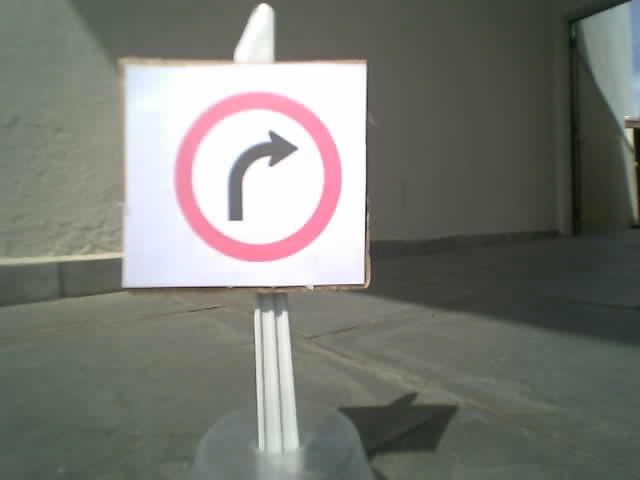R-25b_direita: (173, 89, 344, 262)
